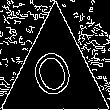O_SE: (28, 41, 82, 106)
